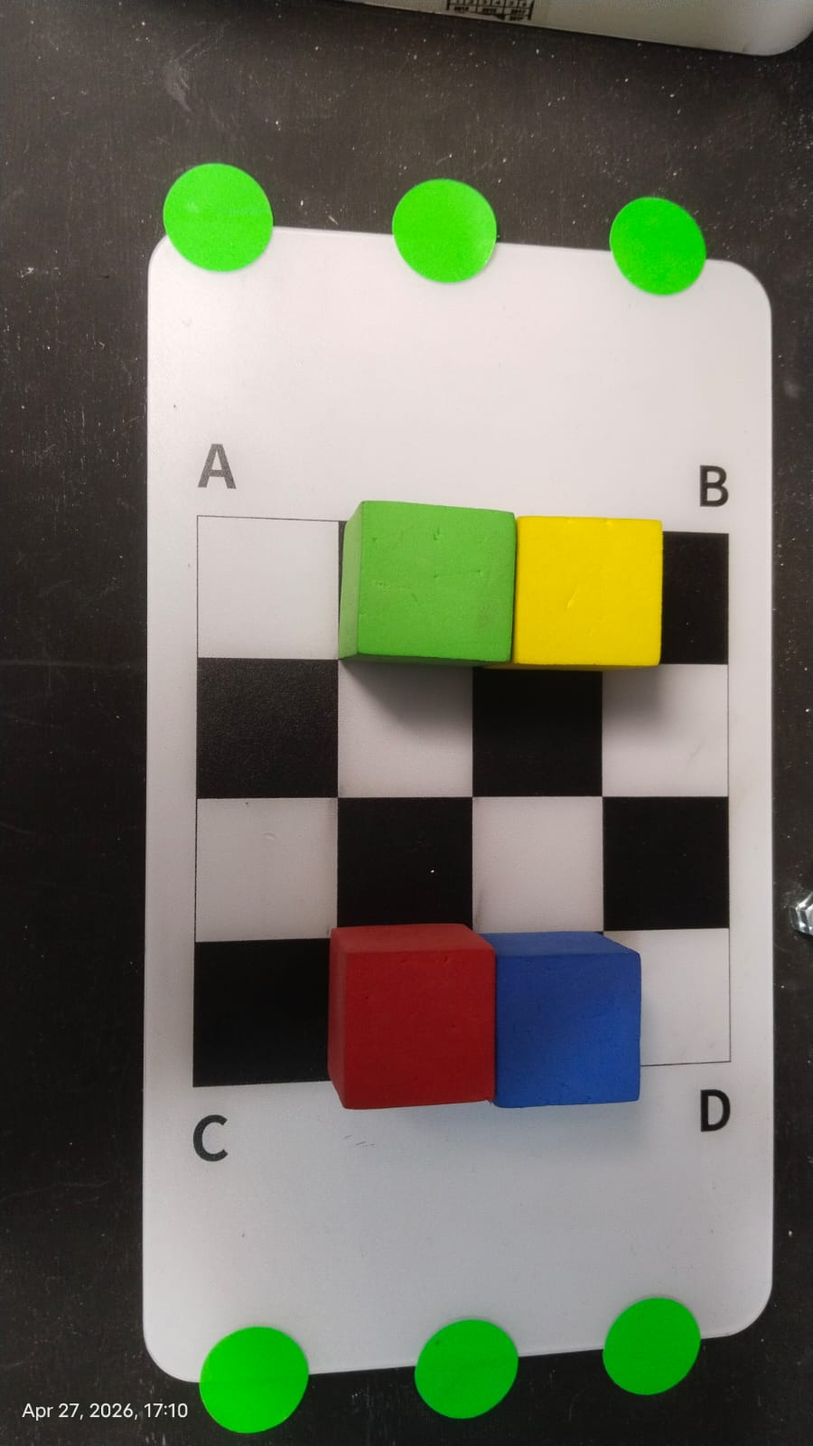blue: (489, 930, 648, 1112)
green: (337, 493, 523, 678)
red: (324, 920, 496, 1115)
yellow: (506, 506, 668, 685)
